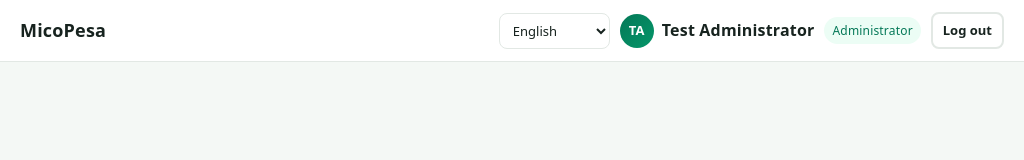
Test: Header logout audit feedback › notifies the signed-out user when the server could not record logout
This screenshot has width=1024, height=160.
Step 1. Click the button "Log out" → (967, 31), box [931,12,1004,49]
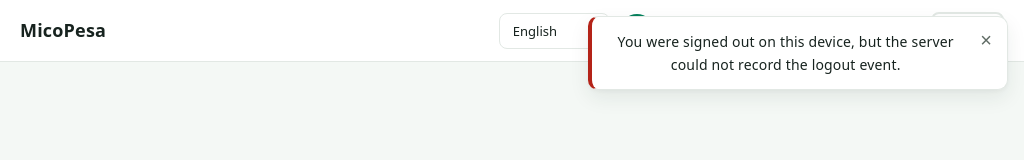
Check: the message shows "You were signed out on this device, but the server could not record the logout event.", box [618,32,954,74]
